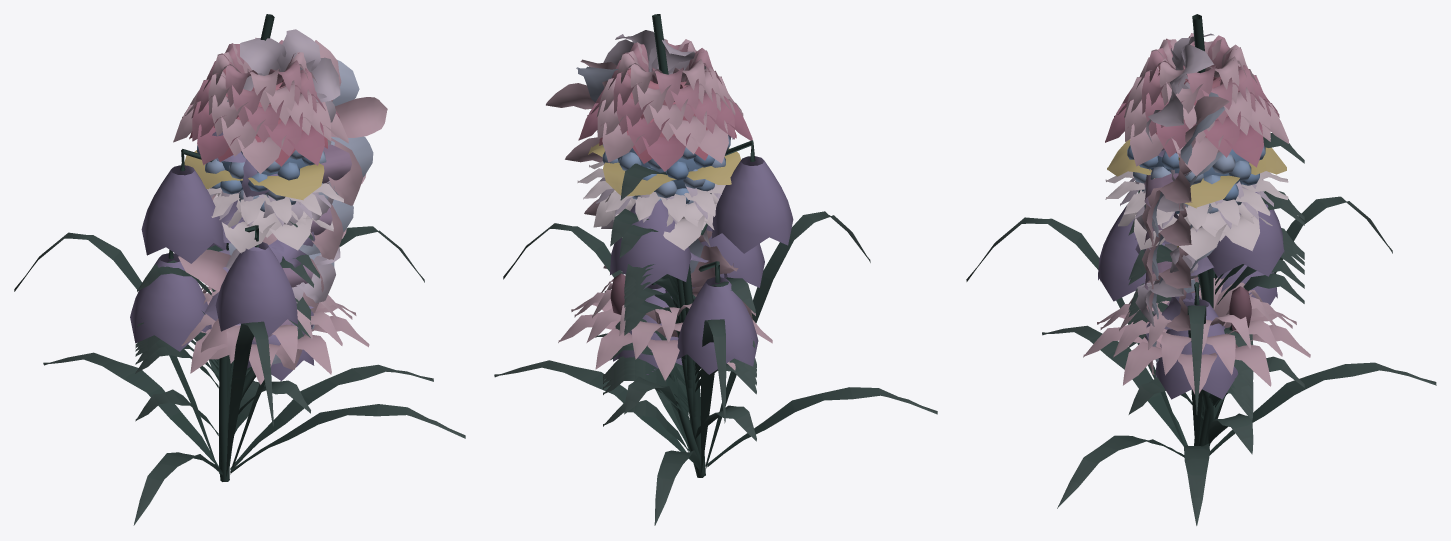
Rendered from meadow-flowers.glb.
The picture shows the model from 3 angles, left to right: view 1: azimuth 30°, elevation 25°; view 2: azimuth 150°, elevation 25°; view 3: azimuth 270°, elevation 25°; orthographic projection. The views are drawn at different scales.
Visible parts, largest first — view 1: bellflower, cymbidium, gladiolus, peony, water_lily, camellia, evening_primrose, pompon, phalaenopsis, daisy, chrysanthemum, rose; view 2: bellflower, peony, gladiolus, cymbidium, water_lily, camellia, daisy, pompon, evening_primrose, chrysanthemum, rose, phalaenopsis; view 3: peony, cymbidium, water_lily, bellflower, gladiolus, camellia, daisy, pompon, evening_primrose, chrysanthemum, phalaenopsis.
Boxes of the visible parts, left/top/right/bottom form: bellflower: left=130, top=149, right=314, bottom=480; cymbidium: left=43, top=40, right=465, bottom=525; gladiolus: left=14, top=14, right=424, bottom=481; peony: left=135, top=37, right=348, bottom=481; water_lily: left=135, top=284, right=369, bottom=480; camellia: left=135, top=193, right=333, bottom=469; evening_primrose: left=135, top=150, right=324, bottom=458; pompon: left=135, top=145, right=326, bottom=455; phalaenopsis: left=228, top=60, right=373, bottom=364; daisy: left=135, top=183, right=343, bottom=448; chrysanthemum: left=135, top=187, right=331, bottom=457; rose: left=135, top=68, right=327, bottom=452; bellflower: left=610, top=140, right=793, bottom=474; peony: left=578, top=39, right=756, bottom=420; gladiolus: left=503, top=14, right=870, bottom=472; cymbidium: left=494, top=59, right=937, bottom=525; water_lily: left=558, top=275, right=772, bottom=477; camellia: left=593, top=189, right=756, bottom=466; daisy: left=577, top=161, right=756, bottom=409; pompon: left=602, top=135, right=756, bottom=425; evening_primrose: left=588, top=143, right=756, bottom=424; chrysanthemum: left=596, top=177, right=756, bottom=433; rose: left=599, top=68, right=756, bottom=422; phalaenopsis: left=576, top=66, right=703, bottom=273; peony: left=1105, top=33, right=1304, bottom=440; cymbidium: left=1042, top=96, right=1436, bottom=525; water_lily: left=1083, top=278, right=1310, bottom=454; bellflower: left=1098, top=190, right=1304, bottom=446; gladiolus: left=966, top=14, right=1392, bottom=446; camellia: left=1118, top=190, right=1304, bottom=432; daisy: left=1105, top=171, right=1304, bottom=437; pompon: left=1127, top=145, right=1304, bottom=435; evening_primrose: left=1107, top=139, right=1304, bottom=439; chrysanthemum: left=1120, top=178, right=1304, bottom=433; phalaenopsis: left=1143, top=92, right=1225, bottom=363.
Bounding box in the file's own units: 1.25 × 1.46 × 1.3.
